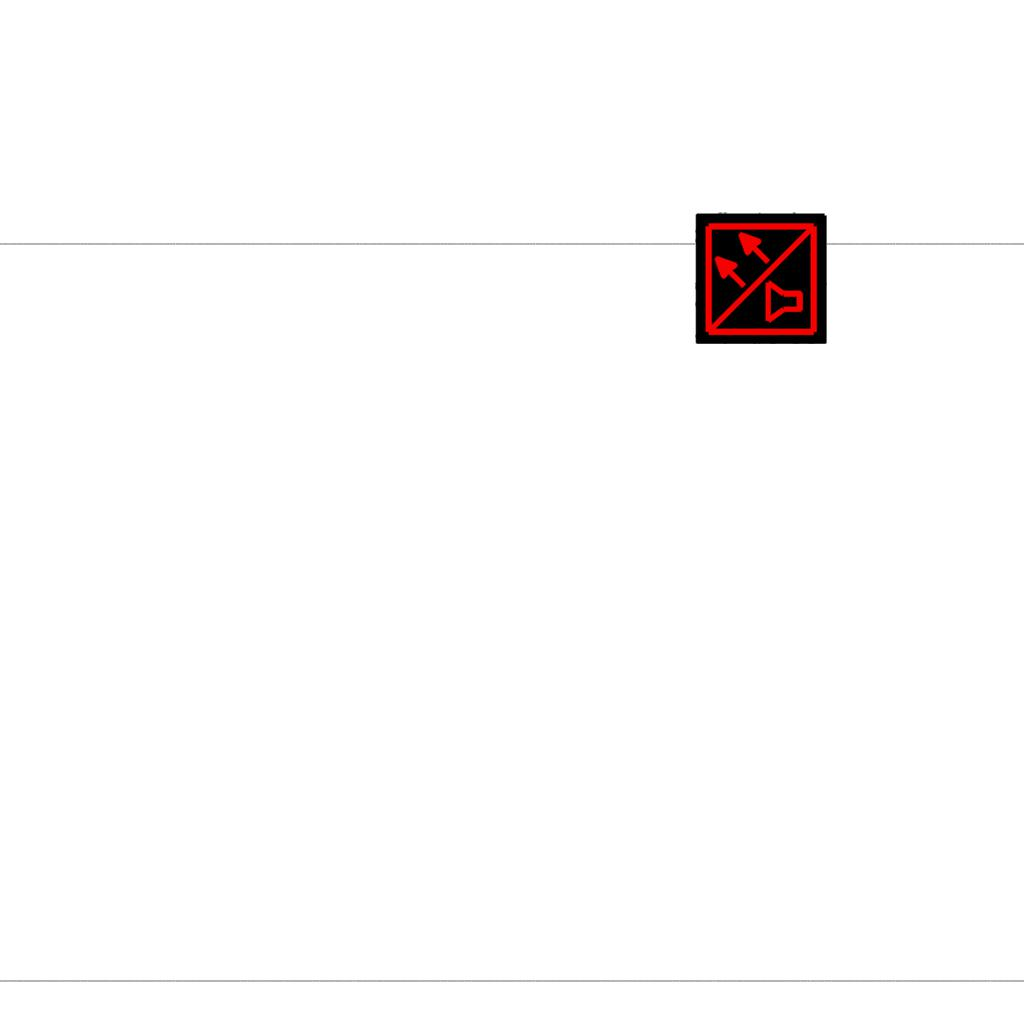OKW_Multisensormelder_(Kombination_optischer_Rauch-Kahlenmonoxid_Waerme-Melder): (695, 212, 827, 344)
